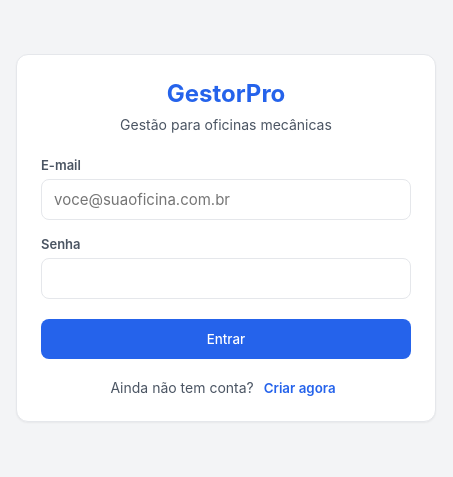
Test: Login › avisa quando o servidor está fora do ar
In the field labelled "E-mail": point(226, 200) [41,179,411,220], type "a@b.com"
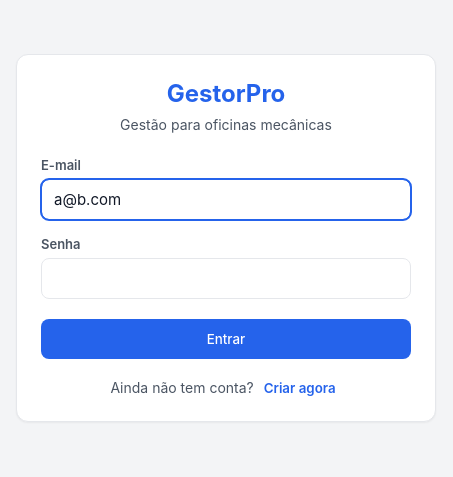
In the password field labelled "Senha": point(226, 278) [41,258,411,299], type "senhaforte123"
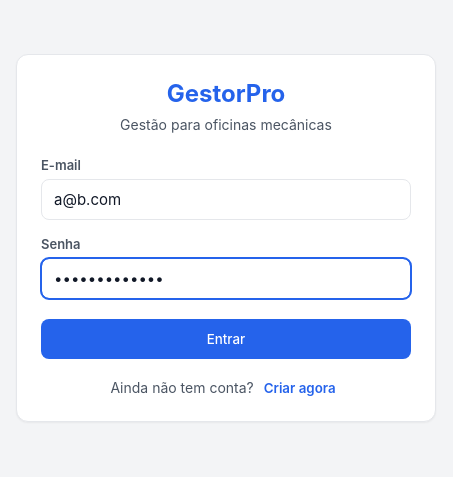
Click the button "Entrar": point(226, 339) [41,319,411,359]
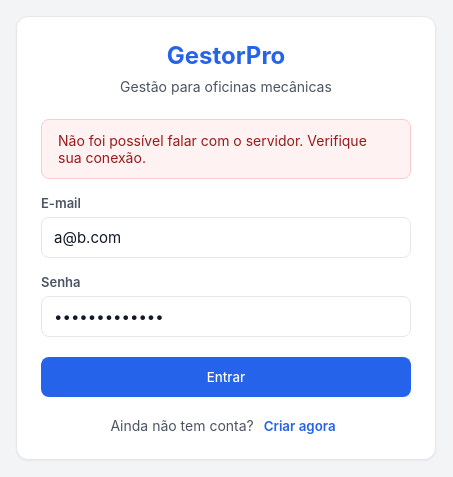
Check: the text "conexão" is shown, box [58,132,367,166]
